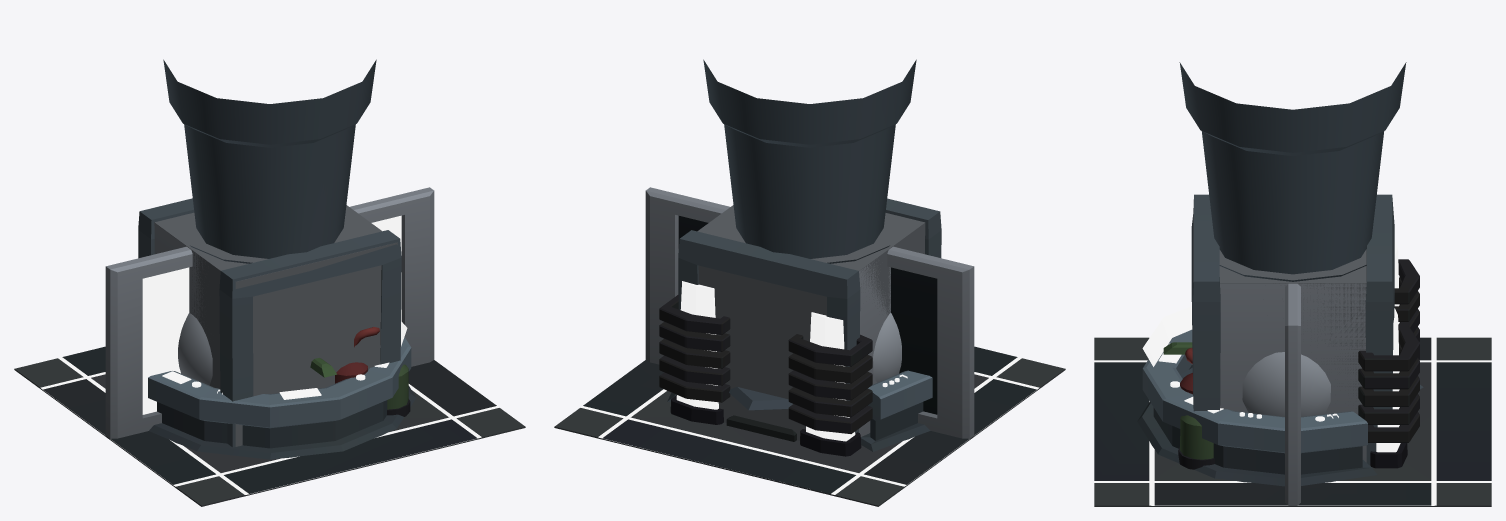
File: facility-kit.glb
3 views of the same model, side by side, from view 1: azimuth 30°, elevation 25°; view 2: azimuth 150°, elevation 25°; view 3: azimuth 270°, elevation 25° (orthographic). The views are drawn at different scales.
Parts seen in each view (by area): view 1: Orrery Tall, Floor Command Large, Command Wall, Deck Height Metal, Command Console, Corridor Boundary 4x4, Generator; view 2: Orrery Tall, Floor Command Large, Generator, Command Wall, Deck Height Metal, Corridor Boundary 4x4, Command Console, Octo Table; view 3: Floor Command Large, Orrery Tall, Corridor Boundary 4x4, Command Console, Generator, Deck Height Metal, Command Wall.
Boxes of the visible parts, bbox=[...] form: Orrery Tall: bbox=[163, 59, 376, 258]; Floor Command Large: bbox=[14, 346, 525, 506]; Command Wall: bbox=[105, 187, 434, 438]; Deck Height Metal: bbox=[154, 205, 397, 446]; Command Console: bbox=[148, 321, 416, 459]; Corridor Boundary 4x4: bbox=[138, 198, 401, 447]; Generator: bbox=[178, 313, 410, 416]; Orrery Tall: bbox=[703, 59, 916, 258]; Floor Command Large: bbox=[554, 346, 1065, 506]; Generator: bbox=[659, 281, 901, 456]; Command Wall: bbox=[645, 187, 974, 438]; Deck Height Metal: bbox=[697, 205, 925, 440]; Corridor Boundary 4x4: bbox=[678, 198, 941, 436]; Command Console: bbox=[667, 370, 932, 451]; Octo Table: bbox=[729, 387, 792, 410]; Floor Command Large: bbox=[1094, 337, 1491, 506]; Orrery Tall: bbox=[1179, 62, 1406, 274]; Corridor Boundary 4x4: bbox=[1191, 194, 1394, 464]; Command Console: bbox=[1137, 306, 1377, 486]; Generator: bbox=[1178, 241, 1419, 469]; Deck Height Metal: bbox=[1193, 199, 1366, 408]; Command Wall: bbox=[1285, 284, 1300, 505].
Bounding box in the file's own units: 8 × 8.54 × 8.
